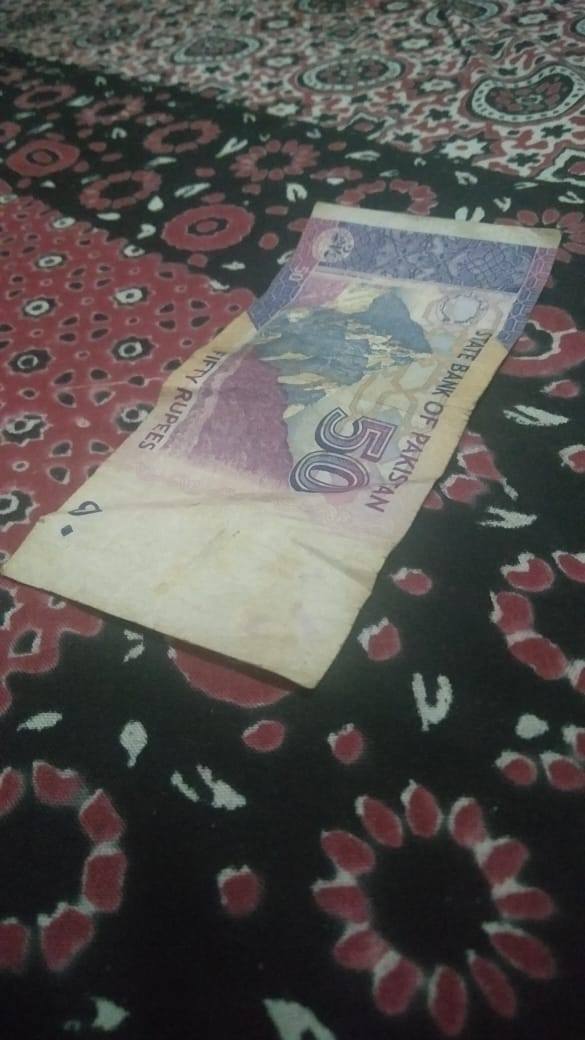50 rupee: (5, 144, 569, 724)
